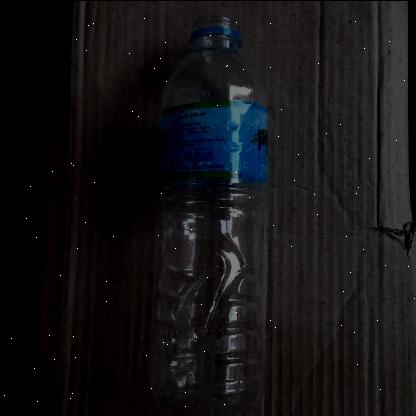Plastic Bottle: (159, 13, 271, 414)
